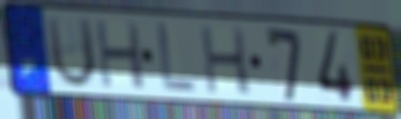4: (315, 27, 357, 106)
7: (264, 23, 303, 103)
H: (197, 23, 254, 97), (92, 17, 148, 91)
L: (155, 19, 197, 97)
U: (43, 14, 99, 92)
